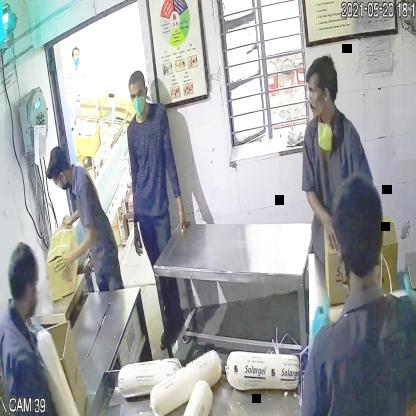goggles: (301, 80, 337, 104)
no_goggles: (128, 83, 146, 102)
